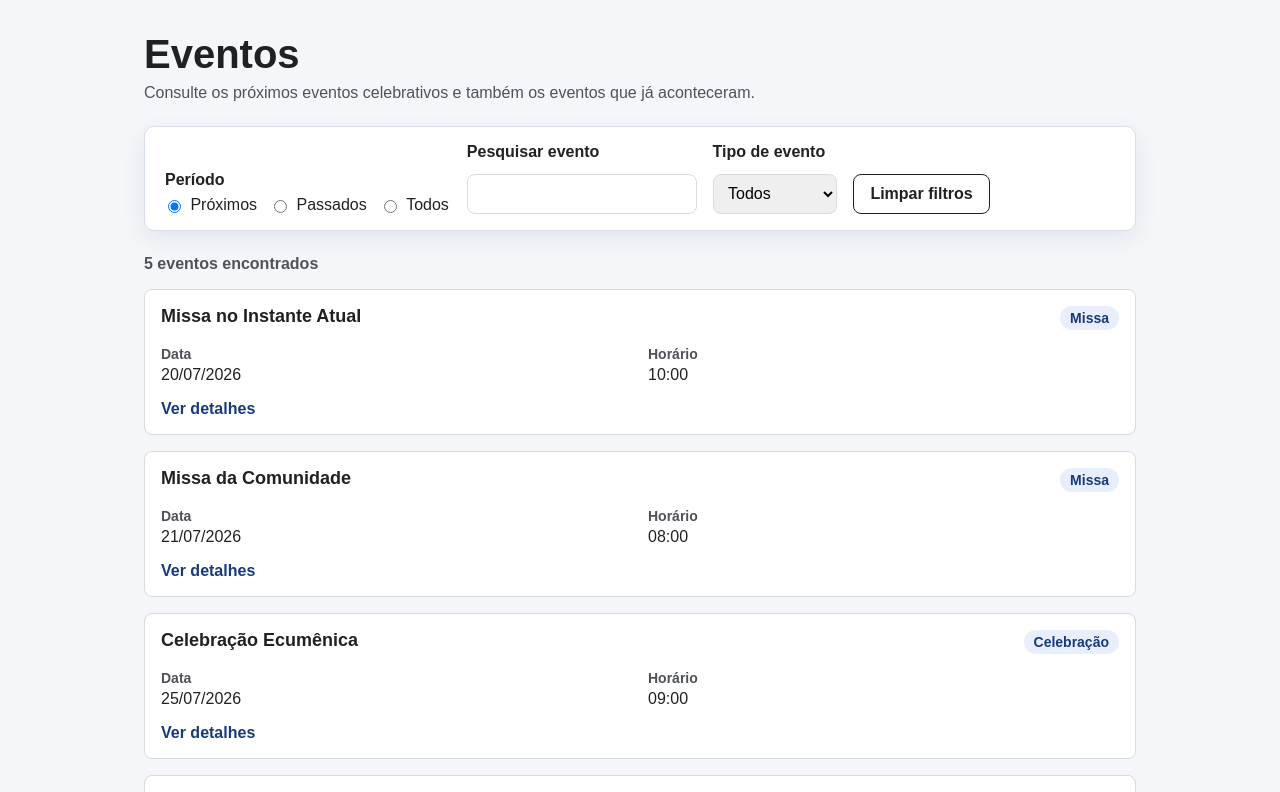
Test case: EventListComponent › should show the generic filtered-empty message when filters exclude all results
Step 1. Click the radio button labelled "Todos" → [390, 206], box [384,200,397,213]
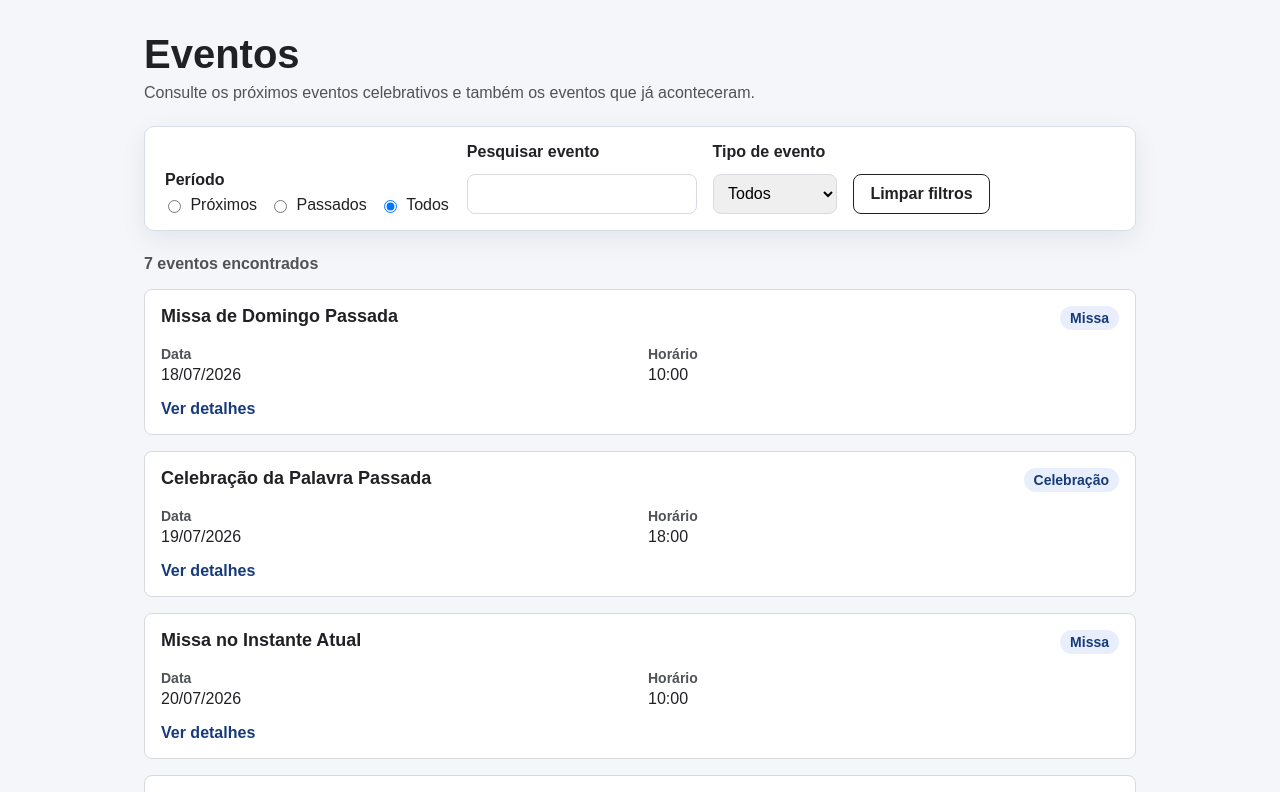
Step 2. Type "nome que nao existe" into the search field with id "event-search" → [582, 194], box [467,174,697,214]
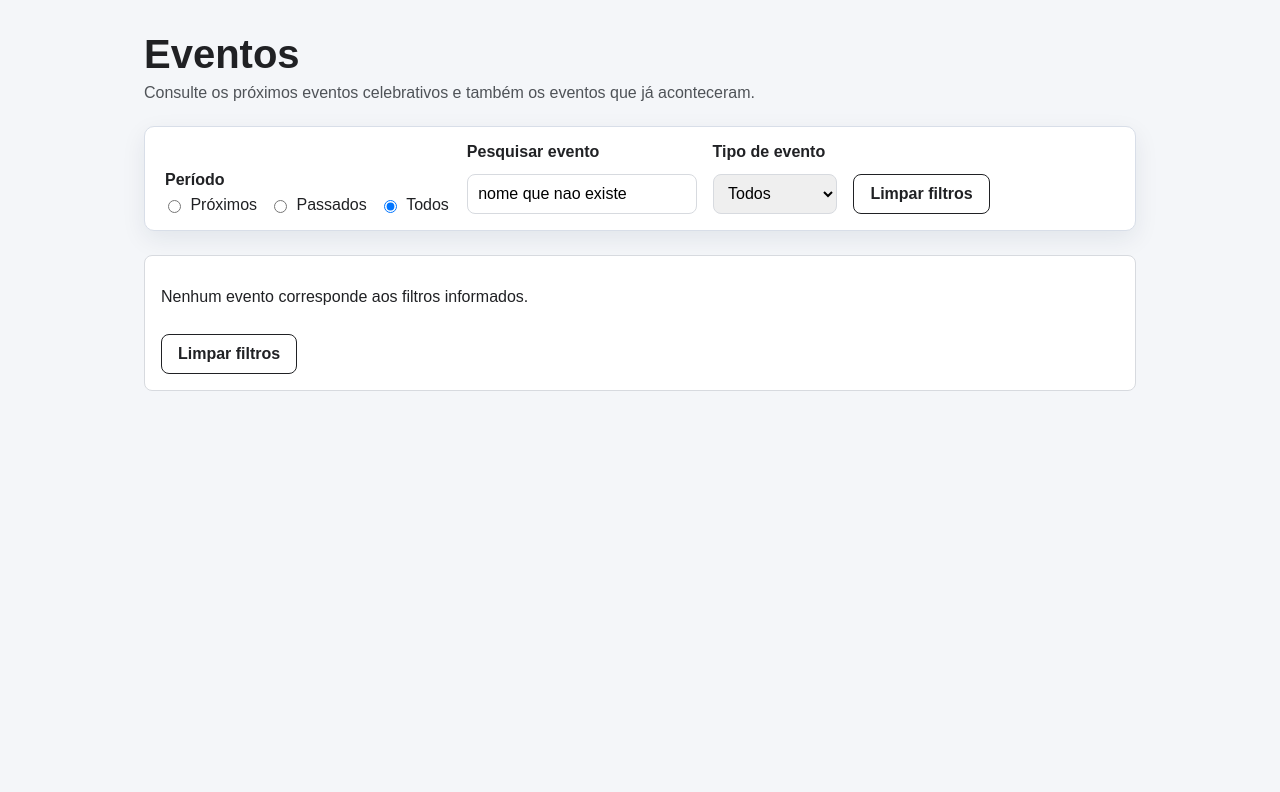
Result: the text "Nenhum evento corresponde aos filtros informados." is shown at [161,288,528,306]
Result: the 2nd button with class "events__button--secondary" is shown at [161,334,297,374]
